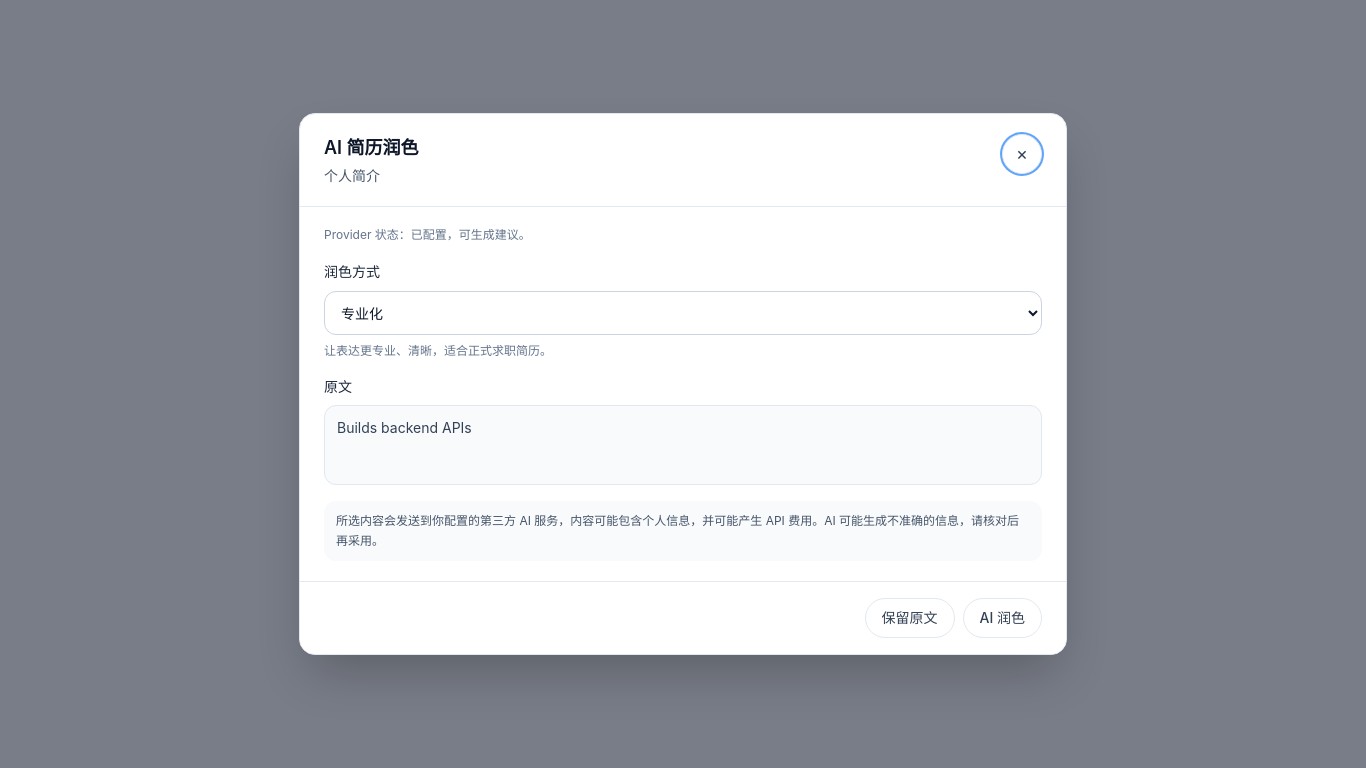
Test: AIResumeEnhancementRuntime › opens and generates after the initial StrictMode effect replay
The width and height of the screenshot is (1366, 768).
Click the button "AI 润色". click: (1002, 618)
box: left=962, top=598, right=1042, bottom=638
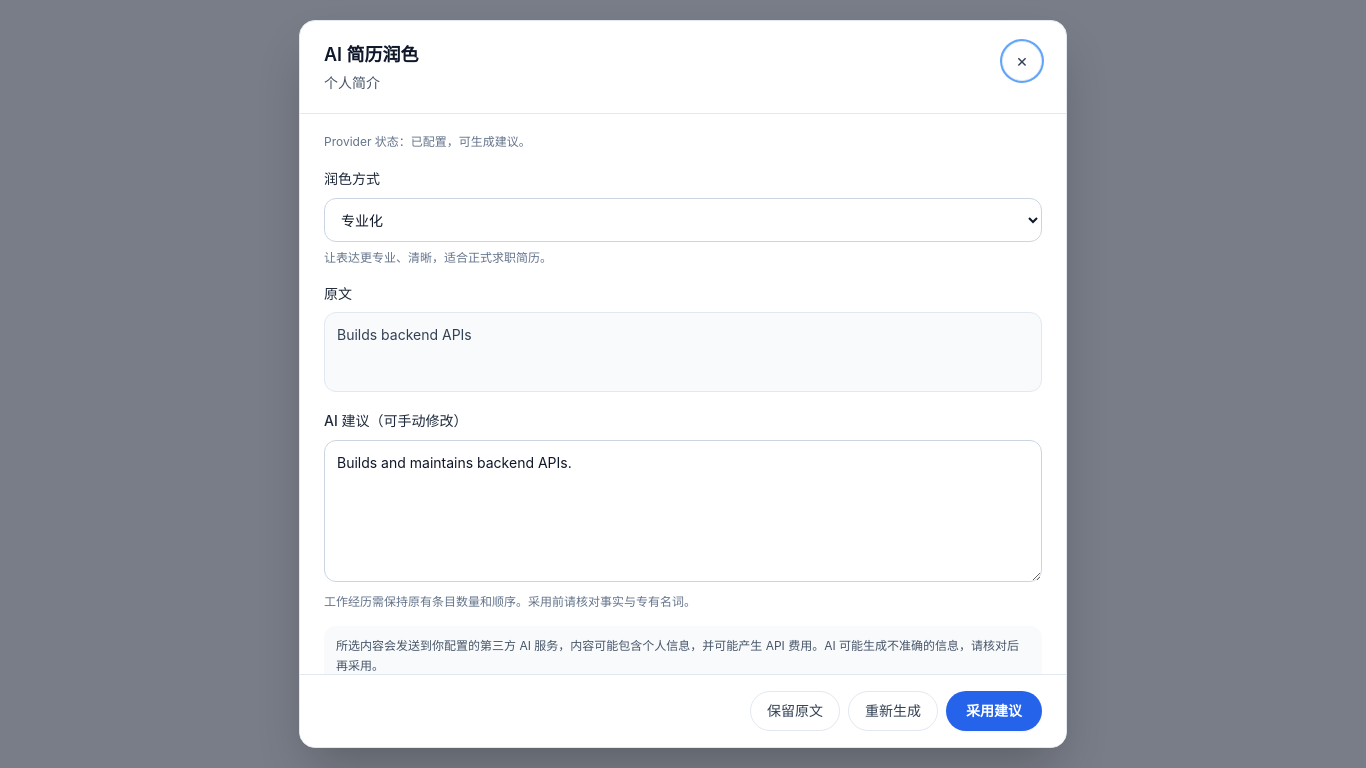
Expected: the text "Builds backend APIs" is shown, left=324, top=312, right=1042, bottom=392
Expected: the text box labelled "AI 建议（可手动修改）" holds "Builds and maintains backend APIs.", left=324, top=440, right=1042, bottom=582
